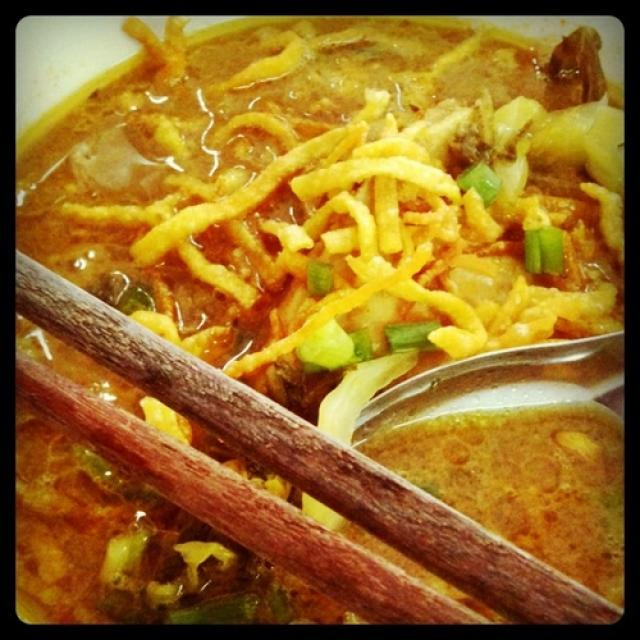面条主食: (15, 13, 621, 628)
